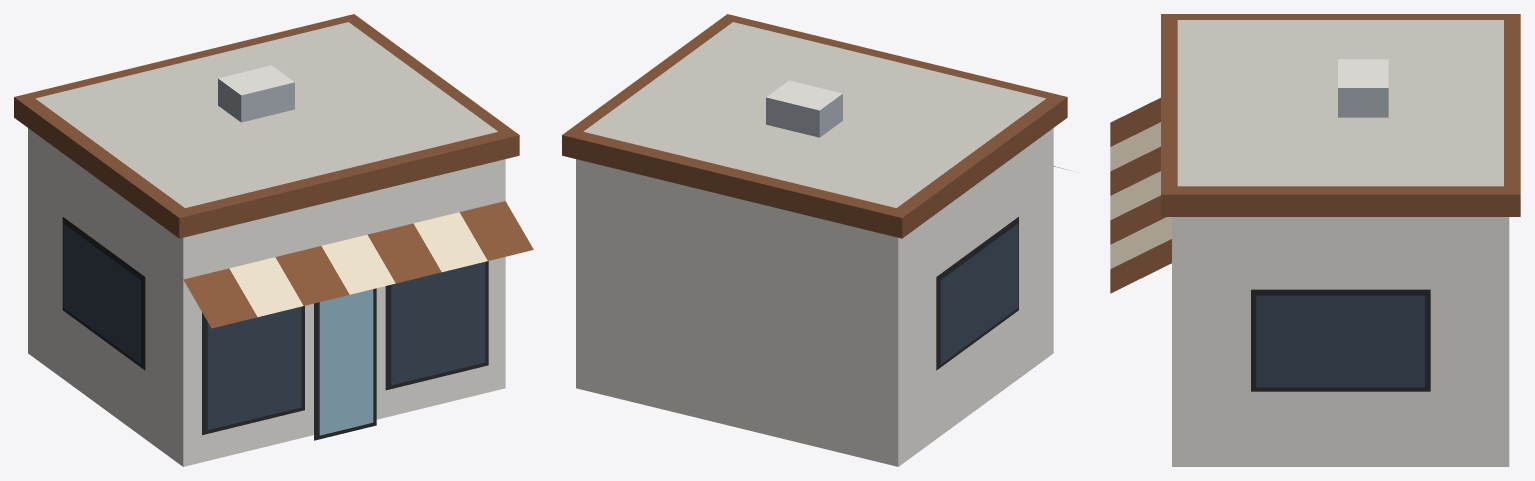
The model's file is B_Coffee.fbx.
3 renders of one model, left to right at view 1: azimuth 30°, elevation 25°; view 2: azimuth 150°, elevation 25°; view 3: azimuth 270°, elevation 25°, orthographic. The views are drawn at different scales.
Parts seen in each view (by area): view 1: B_Coffee.001; view 2: B_Coffee.001; view 3: B_Coffee.001.
Part boxes in pixels (x1,y1,x2,y2): B_Coffee.001: [14, 14, 533, 466]; B_Coffee.001: [562, 14, 1067, 466]; B_Coffee.001: [1110, 14, 1520, 466].
Size of the model in its own units: 3.8 by 3.07 by 3.65.
